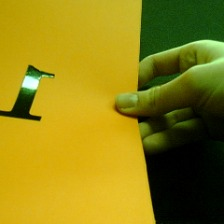orange1: (1, 63, 57, 124)
